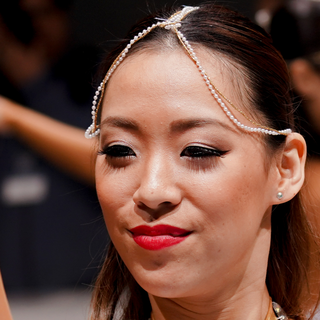eye: (174, 138, 233, 171), (95, 139, 144, 165)
